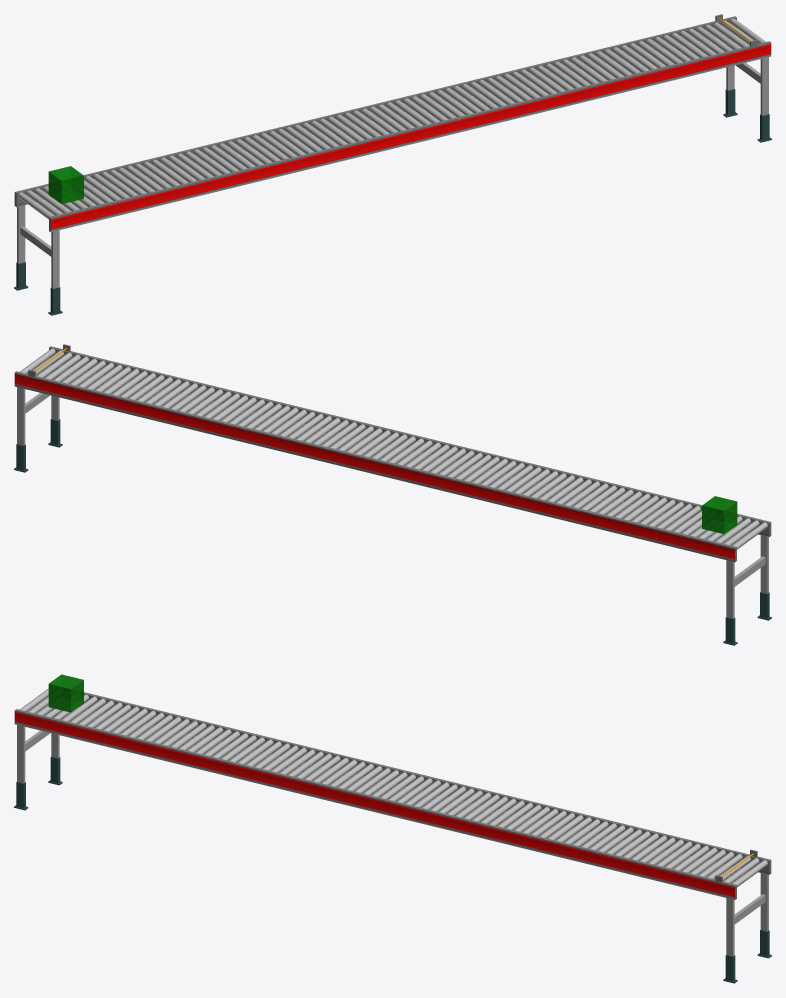
The model's file is chanel.obj.
The picture shows the model from 3 angles, top to bottom: view 1: azimuth 30°, elevation 25°; view 2: azimuth 150°, elevation 25°; view 3: azimuth 330°, elevation 25°; orthographic projection.
Parts seen in each view (by area): view 1: SR1, StartSupport, EndSupport, LoadCreator1; view 2: SR1, StartSupport, EndSupport, LoadCreator1; view 3: SR1, EndSupport, StartSupport, LoadCreator1.
Boxes of the visible parts, x1=… form: SR1: x1=14, y1=16, x2=771, y2=232; StartSupport: x1=14, y1=205, x2=62, y2=315; EndSupport: x1=723, y1=33, x2=771, y2=142; LoadCreator1: x1=48, y1=166, x2=83, y2=204; SR1: x1=14, y1=346, x2=771, y2=562; StartSupport: x1=723, y1=535, x2=771, y2=645; EndSupport: x1=14, y1=363, x2=62, y2=472; LoadCreator1: x1=702, y1=496, x2=737, y2=534; SR1: x1=14, y1=688, x2=771, y2=899; EndSupport: x1=723, y1=873, x2=771, y2=983; StartSupport: x1=14, y1=710, x2=62, y2=810; LoadCreator1: x1=48, y1=674, x2=83, y2=712.
Bounding box in the file's own units: 6.45 × 1.03 × 0.581.
